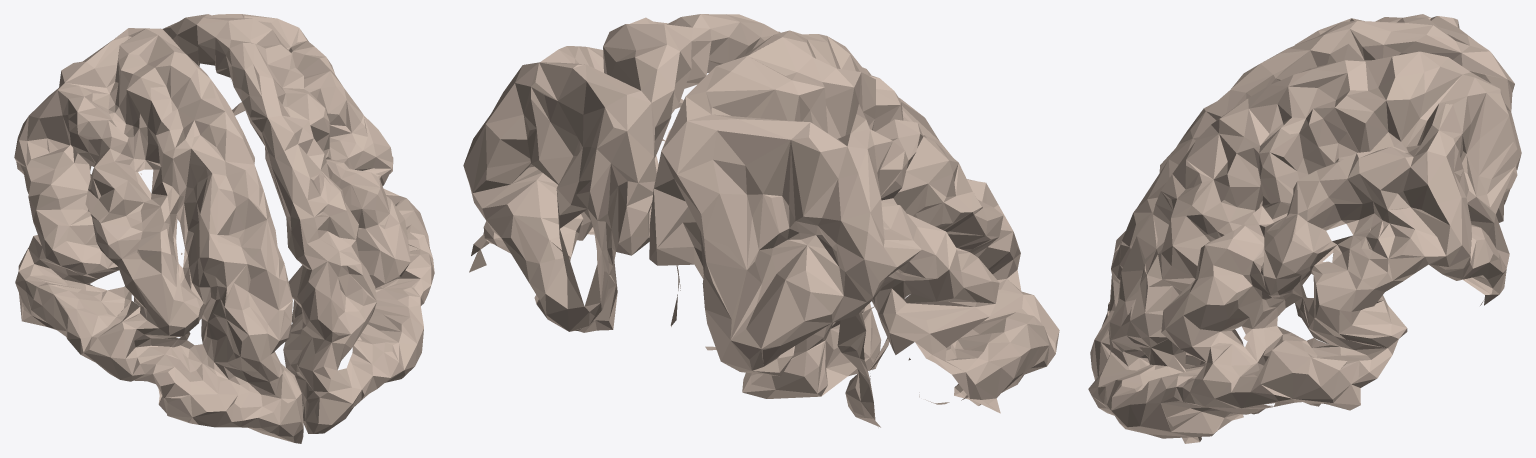
File: frontal_lobe.glb
The picture shows the model from 3 angles, left to right: view 1: azimuth 30°, elevation 25°; view 2: azimuth 150°, elevation 25°; view 3: azimuth 270°, elevation 25°; orthographic projection. The views are drawn at different scales.
Parts seen in each view (by area): view 1: world; view 2: world; view 3: world.
Part boxes in pixels (left/top/right/bottom): world: left=14, top=14, right=434, bottom=443; world: left=463, top=14, right=1059, bottom=427; world: left=1088, top=14, right=1521, bottom=443.
Bounding box in the file's own units: 1.45 × 1.21 × 1.23.
